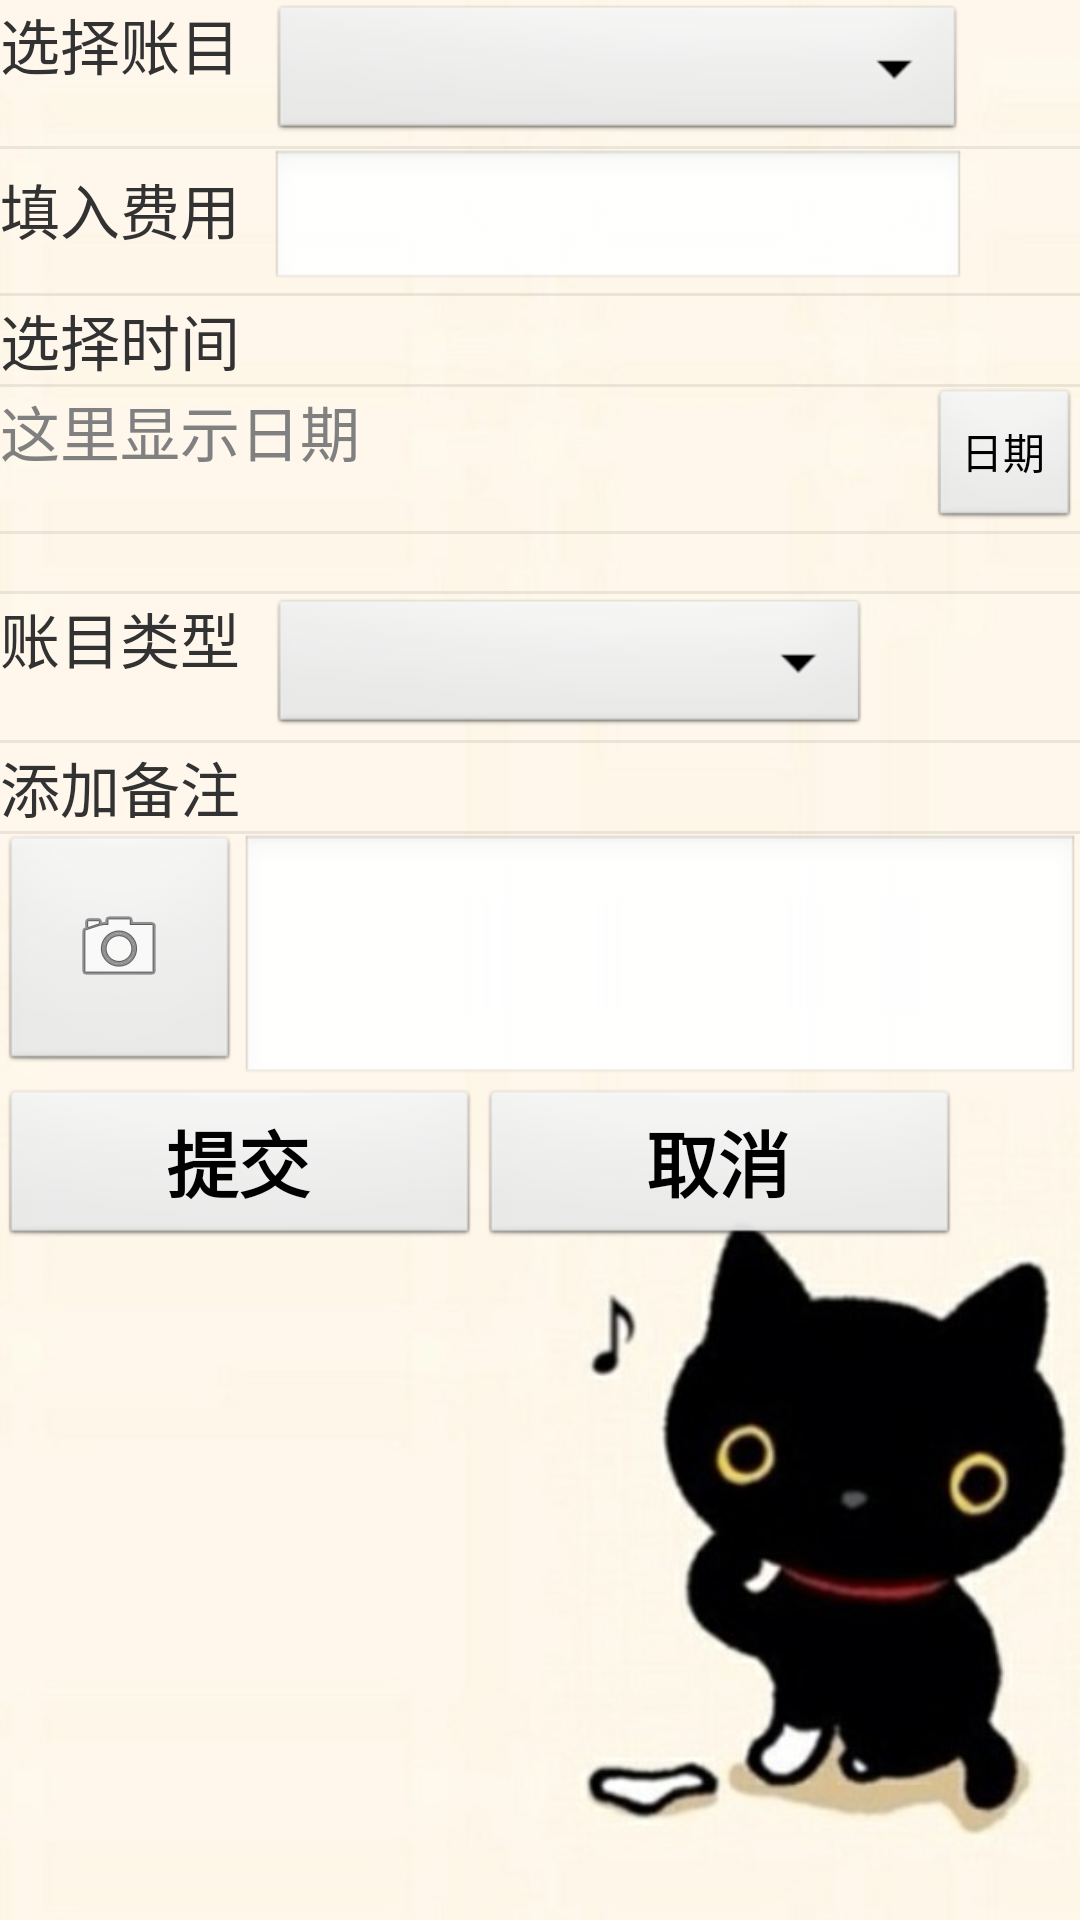

Named icons in this screenshot (1080w x 1920h) and their centers, (x=x, y=y):
camera: (x=119, y=949)
